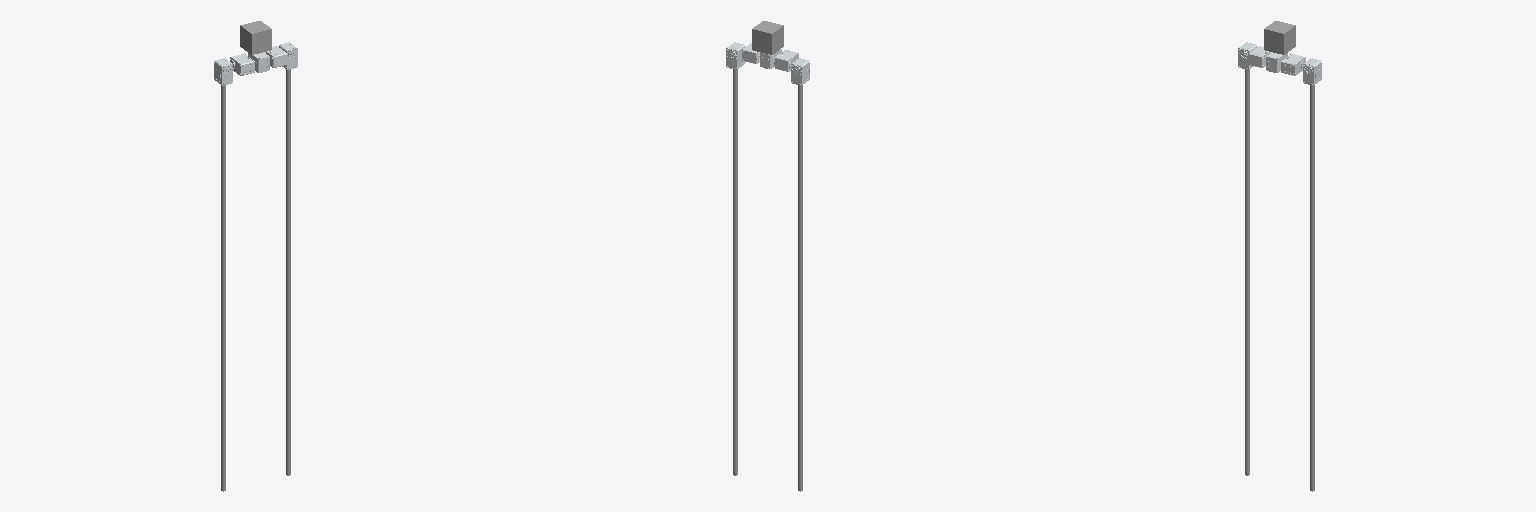
The robot description file, URDF, robot "chopstick_bot":
<?xml version='1.0' encoding='utf-8'?>
<robot name="chopstick_bot">
  <link name="world" />
  <joint name="world_to_base" type="fixed">
    <origin xyz="0.000000 0.000000 1.070000" rpy="0.000000 0.000000 0.000000" />
    <parent link="world" />
    <child link="base_motor_link" />
    </joint>
  <link name="base_motor_link">
    <visual>
      <origin xyz="0.000000 0.000000 0.000000" rpy="0.000000 0.000000 0.000000" />
      <geometry>
        <mesh filename="meshes/XL-430_new_coordinate_on_axis.STL" scale="0.001000 0.001000 0.001000" />
        </geometry>
      <material name="motor_mat">
        <color rgba="0.89804 0.91765 0.92941 1.0" />
        </material>
      </visual>
    <collision>
      <origin xyz="0.000000 -0.012000 0.000000" rpy="0.000000 0.000000 0.000000" />
      <geometry>
        <box size="0.028500 0.046500 0.034000" />
        </geometry>
      </collision>
    <inertial>
      <origin xyz="0.000000 -0.012000 0.000000" rpy="0.000000 0.000000 0.000000" />
      <mass value="0.065000" />
      <inertia ixx="0.000017973854" ixy="0" ixz="0" iyy="0.000010661354" iyz="0" izz="0.000016111875" />
      </inertial>
    </link>
  <link name="l_hip_pitch">
    <visual>
      <origin xyz="0.000000 0.000000 0.000000" rpy="0.000000 0.000000 0.000000" />
      <geometry>
        <mesh filename="meshes/XL-430_new_coordinate_on_axis.STL" scale="0.001000 0.001000 0.001000" />
        </geometry>
      <material name="motor_mat">
        <color rgba="0.89804 0.91765 0.92941 1.0" />
        </material>
      </visual>
    <collision>
      <origin xyz="0.000000 -0.012000 0.000000" rpy="0.000000 0.000000 0.000000" />
      <geometry>
        <box size="0.028500 0.046500 0.034000" />
        </geometry>
      </collision>
    <inertial>
      <origin xyz="0.000000 -0.012000 0.000000" rpy="0.000000 0.000000 0.000000" />
      <mass value="0.065000" />
      <inertia ixx="0.000017973854" ixy="0" ixz="0" iyy="0.000010661354" iyz="0" izz="0.000016111875" />
      </inertial>
    </link>
  <link name="l_hip_pitch_out">
    <inertial>
      <origin xyz="0.000000 0.000000 0.000000" rpy="0.000000 0.000000 0.000000" />
      <mass value="0.001000" />
      <inertia ixx="0.000000016667" ixy="0" ixz="0" iyy="0.000000016667" iyz="0" izz="0.000000016667" />
      </inertial>
    </link>
  <joint name="l_hip_pitch_mount_fixed" type="fixed">
    <origin xyz="-0.040000 0.000000 0.000000" rpy="0.000000 -1.570796 0.000000" />
    <parent link="base_motor_link" />
    <child link="l_hip_pitch" />
    </joint>
  <joint name="l_hip_pitch_joint" type="revolute">
    <origin xyz="0.000000 0.000000 0.000000" rpy="0.000000 0.000000 0.000000" />
    <parent link="l_hip_pitch" />
    <child link="l_hip_pitch_out" />
    <axis xyz="0.000000 0.000000 1.000000" />
    <limit lower="-3.14159" upper="3.14159" effort="5.0" velocity="8.0" />
    </joint>
  <link name="l_hip_roll">
    <visual>
      <origin xyz="0.000000 0.000000 0.000000" rpy="0.000000 0.000000 0.000000" />
      <geometry>
        <mesh filename="meshes/XL-430_new_coordinate_on_axis.STL" scale="0.001000 0.001000 0.001000" />
        </geometry>
      <material name="motor_mat">
        <color rgba="0.89804 0.91765 0.92941 1.0" />
        </material>
      </visual>
    <collision>
      <origin xyz="0.000000 -0.012000 0.000000" rpy="0.000000 0.000000 0.000000" />
      <geometry>
        <box size="0.028500 0.046500 0.034000" />
        </geometry>
      </collision>
    <inertial>
      <origin xyz="0.000000 -0.012000 0.000000" rpy="0.000000 0.000000 0.000000" />
      <mass value="0.065000" />
      <inertia ixx="0.000017973854" ixy="0" ixz="0" iyy="0.000010661354" iyz="0" izz="0.000016111875" />
      </inertial>
    </link>
  <link name="l_hip_roll_out">
    <inertial>
      <origin xyz="0.000000 0.000000 0.000000" rpy="0.000000 0.000000 0.000000" />
      <mass value="0.001000" />
      <inertia ixx="0.000000016667" ixy="0" ixz="0" iyy="0.000000016667" iyz="0" izz="0.000000016667" />
      </inertial>
    </link>
  <joint name="l_hip_roll_mount_fixed" type="fixed">
    <origin xyz="0.000000 0.000000 0.040000" rpy="0.000000 -1.570796 -1.570796" />
    <parent link="l_hip_pitch_out" />
    <child link="l_hip_roll" />
    </joint>
  <joint name="l_hip_roll_joint" type="revolute">
    <origin xyz="0.000000 0.000000 0.000000" rpy="0.000000 0.000000 0.000000" />
    <parent link="l_hip_roll" />
    <child link="l_hip_roll_out" />
    <axis xyz="0.000000 0.000000 1.000000" />
    <limit lower="-3.14159" upper="3.14159" effort="5.0" velocity="8.0" />
    </joint>
  <link name="l_end_effector">
    <visual>
      <origin xyz="0.000000 0.000000 0.000000" rpy="1.570796 0.000000 0.000000" />
      <geometry>
        <cylinder radius="0.005000" length="1.000000" />
        </geometry>
      <material name="cylinder_mat">
        <color rgba="0.7 0.7 0.7 1.0" />
        </material>
      </visual>
    <collision>
      <origin xyz="0.000000 -0.500000 0.000000" rpy="0.000000 0.000000 0.000000" />
      <geometry>
        <box size="0.020000 0.020000 0.020000" />
        </geometry>
      </collision>
    <inertial>
      <origin xyz="0.000000 0.000000 0.000000" rpy="0.000000 0.000000 0.000000" />
      <mass value="0.039270" />
      <inertia ixx="0.003272737784" ixy="0" ixz="0" iyy="0.003272737784" iyz="0" izz="0.000000490874" />
      </inertial>
    </link>
  <joint name="l_end_effector_fixed" type="fixed">
    <origin xyz="0.000000 -0.500000 0.000000" rpy="0.000000 0.000000 0.000000" />
    <parent link="l_hip_roll_out" />
    <child link="l_end_effector" />
    </joint>
  <link name="r_hip_pitch">
    <visual>
      <origin xyz="0.000000 0.000000 0.000000" rpy="0.000000 0.000000 0.000000" />
      <geometry>
        <mesh filename="meshes/XL-430_new_coordinate_on_axis.STL" scale="0.001000 0.001000 0.001000" />
        </geometry>
      <material name="motor_mat">
        <color rgba="0.89804 0.91765 0.92941 1.0" />
        </material>
      </visual>
    <collision>
      <origin xyz="0.000000 -0.012000 0.000000" rpy="0.000000 0.000000 0.000000" />
      <geometry>
        <box size="0.028500 0.046500 0.034000" />
        </geometry>
      </collision>
    <inertial>
      <origin xyz="0.000000 -0.012000 0.000000" rpy="0.000000 0.000000 0.000000" />
      <mass value="0.065000" />
      <inertia ixx="0.000017973854" ixy="0" ixz="0" iyy="0.000010661354" iyz="0" izz="0.000016111875" />
      </inertial>
    </link>
  <link name="r_hip_pitch_out">
    <inertial>
      <origin xyz="0.000000 0.000000 0.000000" rpy="0.000000 0.000000 0.000000" />
      <mass value="0.001000" />
      <inertia ixx="0.000000016667" ixy="0" ixz="0" iyy="0.000000016667" iyz="0" izz="0.000000016667" />
      </inertial>
    </link>
  <joint name="r_hip_pitch_mount_fixed" type="fixed">
    <origin xyz="0.040000 0.000000 0.000000" rpy="0.000000 1.570796 -0.000000" />
    <parent link="base_motor_link" />
    <child link="r_hip_pitch" />
    </joint>
  <joint name="r_hip_pitch_joint" type="revolute">
    <origin xyz="0.000000 0.000000 0.000000" rpy="0.000000 0.000000 0.000000" />
    <parent link="r_hip_pitch" />
    <child link="r_hip_pitch_out" />
    <axis xyz="0.000000 0.000000 1.000000" />
    <limit lower="-3.14159" upper="3.14159" effort="5.0" velocity="8.0" />
    </joint>
  <link name="r_hip_roll">
    <visual>
      <origin xyz="0.000000 0.000000 0.000000" rpy="0.000000 0.000000 0.000000" />
      <geometry>
        <mesh filename="meshes/XL-430_new_coordinate_on_axis.STL" scale="0.001000 0.001000 0.001000" />
        </geometry>
      <material name="motor_mat">
        <color rgba="0.89804 0.91765 0.92941 1.0" />
        </material>
      </visual>
    <collision>
      <origin xyz="0.000000 -0.012000 0.000000" rpy="0.000000 0.000000 0.000000" />
      <geometry>
        <box size="0.028500 0.046500 0.034000" />
        </geometry>
      </collision>
    <inertial>
      <origin xyz="0.000000 -0.012000 0.000000" rpy="0.000000 0.000000 0.000000" />
      <mass value="0.065000" />
      <inertia ixx="0.000017973854" ixy="0" ixz="0" iyy="0.000010661354" iyz="0" izz="0.000016111875" />
      </inertial>
    </link>
  <link name="r_hip_roll_out">
    <inertial>
      <origin xyz="0.000000 0.000000 0.000000" rpy="0.000000 0.000000 0.000000" />
      <mass value="0.001000" />
      <inertia ixx="0.000000016667" ixy="0" ixz="0" iyy="0.000000016667" iyz="0" izz="0.000000016667" />
      </inertial>
    </link>
  <joint name="r_hip_roll_mount_fixed" type="fixed">
    <origin xyz="-0.000000 0.000000 0.040000" rpy="0.000000 1.570796 1.570796" />
    <parent link="r_hip_pitch_out" />
    <child link="r_hip_roll" />
    </joint>
  <joint name="r_hip_roll_joint" type="revolute">
    <origin xyz="0.000000 0.000000 0.000000" rpy="0.000000 0.000000 0.000000" />
    <parent link="r_hip_roll" />
    <child link="r_hip_roll_out" />
    <axis xyz="0.000000 0.000000 1.000000" />
    <limit lower="-3.14159" upper="3.14159" effort="5.0" velocity="8.0" />
    </joint>
  <link name="r_end_effector">
    <visual>
      <origin xyz="0.000000 0.000000 0.000000" rpy="1.570796 0.000000 0.000000" />
      <geometry>
        <cylinder radius="0.005000" length="1.000000" />
        </geometry>
      <material name="cylinder_mat">
        <color rgba="0.7 0.7 0.7 1.0" />
        </material>
      </visual>
    <collision>
      <origin xyz="0.000000 -0.500000 0.000000" rpy="0.000000 0.000000 0.000000" />
      <geometry>
        <box size="0.020000 0.020000 0.020000" />
        </geometry>
      </collision>
    <inertial>
      <origin xyz="0.000000 0.000000 0.000000" rpy="0.000000 0.000000 0.000000" />
      <mass value="0.039270" />
      <inertia ixx="0.003272737784" ixy="0" ixz="0" iyy="0.003272737784" iyz="0" izz="0.000000490874" />
      </inertial>
    </link>
  <joint name="r_end_effector_fixed" type="fixed">
    <origin xyz="-0.000000 -0.500000 0.000000" rpy="0.000000 -0.000000 0.000000" />
    <parent link="r_hip_roll_out" />
    <child link="r_end_effector" />
    </joint>
  <link name="trunk_link">
    <visual>
      <origin xyz="0.000000 0.000000 0.000000" rpy="0.000000 0.000000 0.000000" />
      <geometry>
        <box size="0.050000 0.050000 0.050000" />
        </geometry>
      <material name="box_mat">
        <color rgba="0.7 0.7 0.7 1.0" />
        </material>
      </visual>
    <collision>
      <origin xyz="0.000000 0.000000 0.000000" rpy="0.000000 0.000000 0.000000" />
      <geometry>
        <box size="0.050000 0.050000 0.050000" />
        </geometry>
      </collision>
    <inertial>
      <origin xyz="0.000000 0.000000 0.000000" rpy="0.000000 0.000000 0.000000" />
      <mass value="0.200000" />
      <inertia ixx="0.000083333333" ixy="0" ixz="0" iyy="0.000083333333" iyz="0" izz="0.000083333333" />
      </inertial>
    </link>
  <joint name="base_to_trunk" type="revolute">
    <origin xyz="0.000000 0.000000 0.050000" rpy="0.000000 0.000000 0.000000" />
    <parent link="base_motor_link" />
    <child link="trunk_link" />
    <axis xyz="0.000000 0.000000 1.000000" />
    <limit lower="-3.14159" upper="3.14159" effort="5.0" velocity="8.0" />
    </joint>
  </robot>

--- Facts derived from the render (not from the file) ---
3 views of the same robot in one strip: view 1: azimuth 30°, elevation 25°; view 2: azimuth 150°, elevation 25°; view 3: azimuth 330°, elevation 25° (orthographic).
Model chopstick_bot with 13 links and 12 joints (5 revolute, 7 fixed), rooted at world, posed all joints at 0.
Links seen in each view (by area): view 1: r_end_effector, l_end_effector, trunk_link; view 2: r_end_effector, l_end_effector, trunk_link; view 3: l_end_effector, r_end_effector, trunk_link.
Boxes of the visible links, box(x1,y1,x2,y2) form: r_end_effector: box(286, 69, 290, 475); l_end_effector: box(221, 85, 225, 491); trunk_link: box(240, 21, 271, 54); r_end_effector: box(733, 69, 737, 475); l_end_effector: box(798, 85, 802, 491); trunk_link: box(752, 21, 783, 54); l_end_effector: box(1245, 69, 1249, 475); r_end_effector: box(1310, 85, 1314, 491); trunk_link: box(1264, 21, 1295, 54).
Bounding box of the posed robot: 0.1885 × 0.0602 × 1.07 m (x, y, z).
Meshes: 1 distinct files referenced, 5 mesh visuals loaded (1 binary STL).
